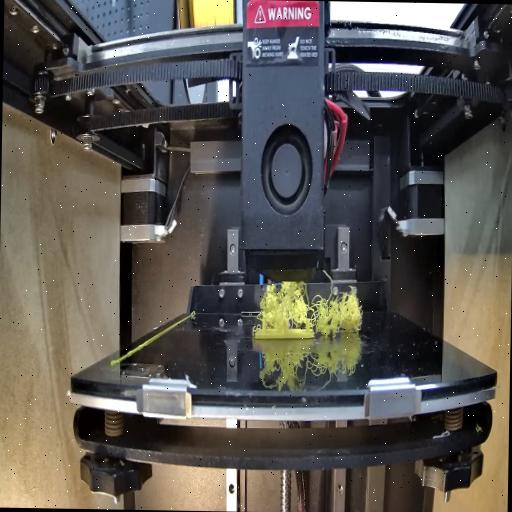spaghetti: (256, 270, 364, 336)
